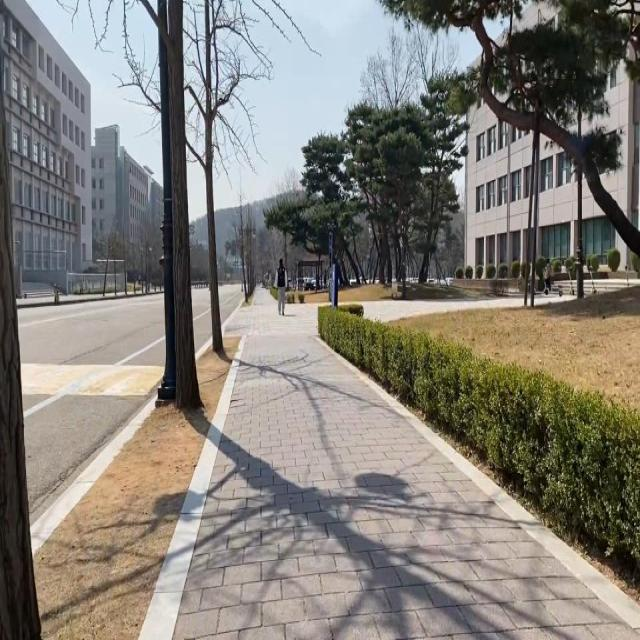sidewalk: (174, 289, 640, 639)
